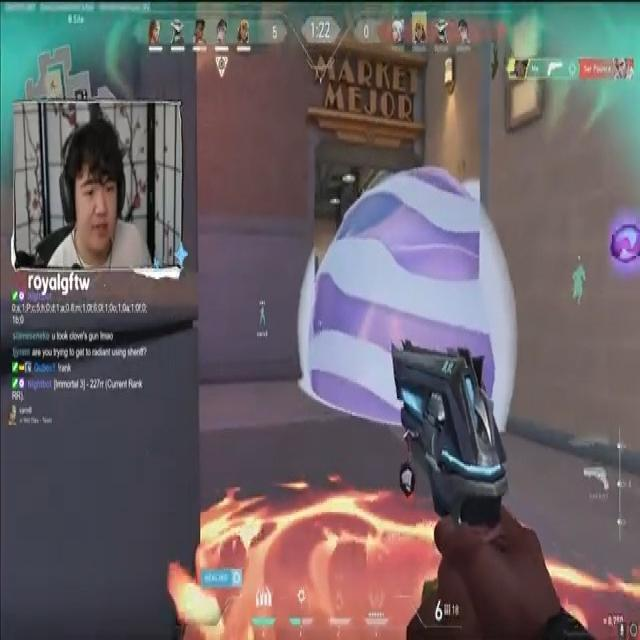smoke: (311, 166, 496, 428)
